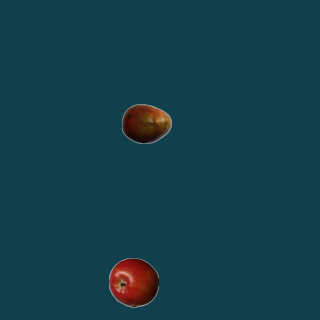Apple Braeburn: (108, 257, 158, 307)
Mango Red: (121, 98, 171, 148)
